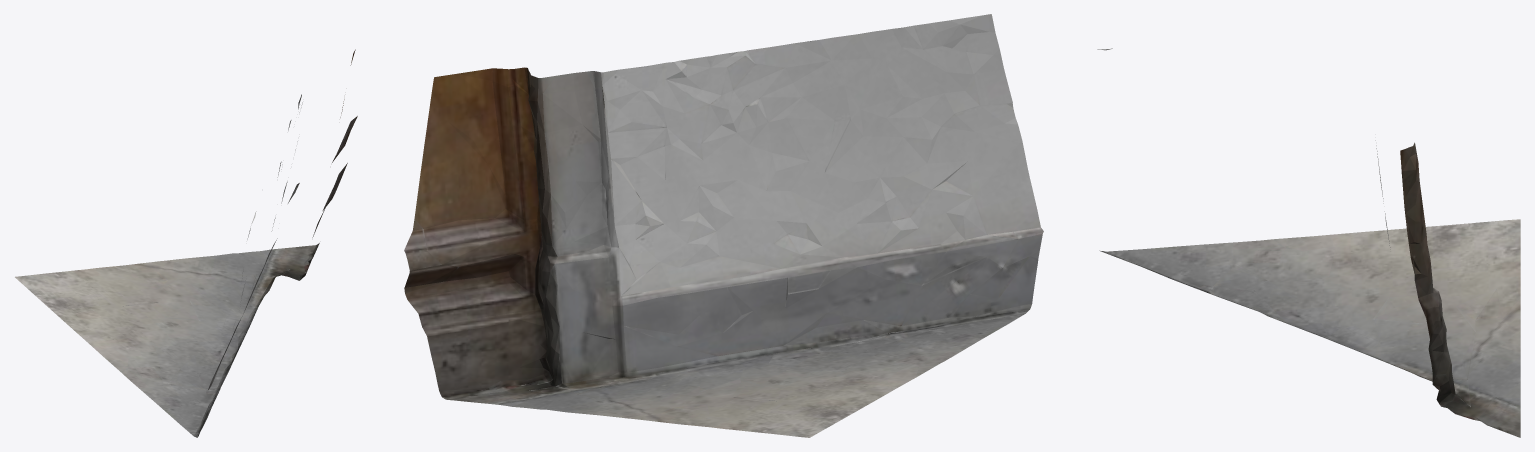
The picture shows the model from 3 angles, left to right: view 1: azimuth 30°, elevation 25°; view 2: azimuth 150°, elevation 25°; view 3: azimuth 270°, elevation 25°; orthographic projection. The views are drawn at different scales.
Bounding box in the file's own units: 1.67 × 1.15 × 1.67.
3 materials, 3 textured.
